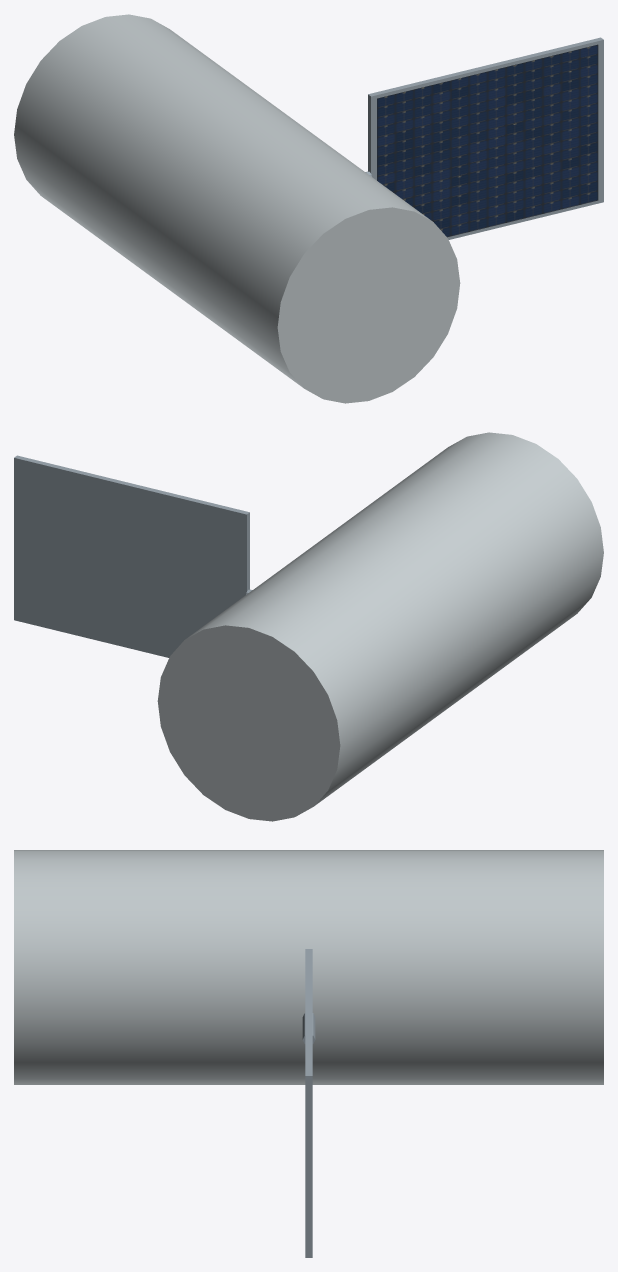
The model's file is ref-kestreleye-42982.glb.
The picture shows the model from 3 angles, top to bottom: view 1: azimuth 30°, elevation 25°; view 2: azimuth 150°, elevation 25°; view 3: azimuth 270°, elevation 25°; orthographic projection. The views are drawn at different scales.
Parts seen in each view (by area): view 1: Spacecraft body, Photovoltaic laminates, Array frame; view 2: Spacecraft body, Array frame; view 3: Spacecraft body, Array frame.
Part boxes in pixels (bbox=[...]): Spacecraft body: bbox=[14, 14, 460, 403]; Photovoltaic laminates: bbox=[377, 44, 598, 237]; Array frame: bbox=[368, 37, 603, 239]; Spacecraft body: bbox=[157, 432, 603, 821]; Array frame: bbox=[14, 455, 249, 657]; Spacecraft body: bbox=[14, 850, 603, 1084]; Array frame: bbox=[305, 949, 312, 1257].
Size of the model in its own units: 1 by 0.4 by 1.
Materials: 3 (1 with a texture image).
